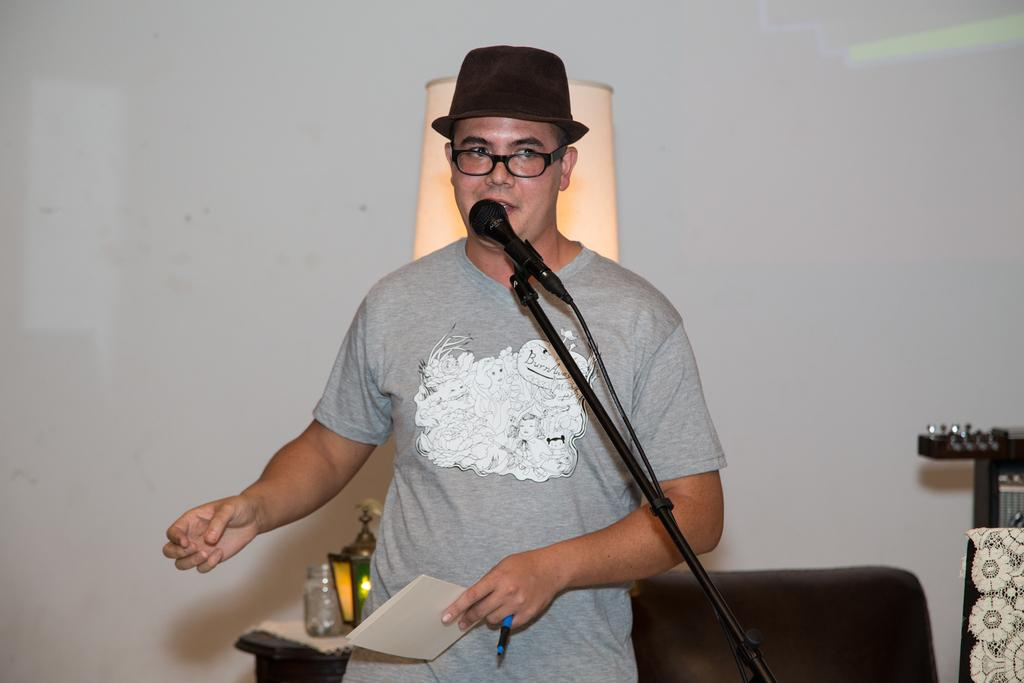Sem Máscara: (449, 116, 565, 232)
